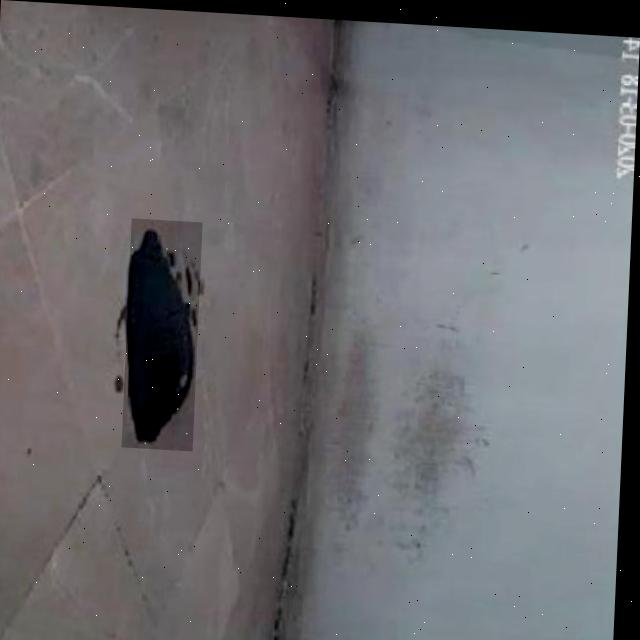spillage: (129, 219, 198, 446)
